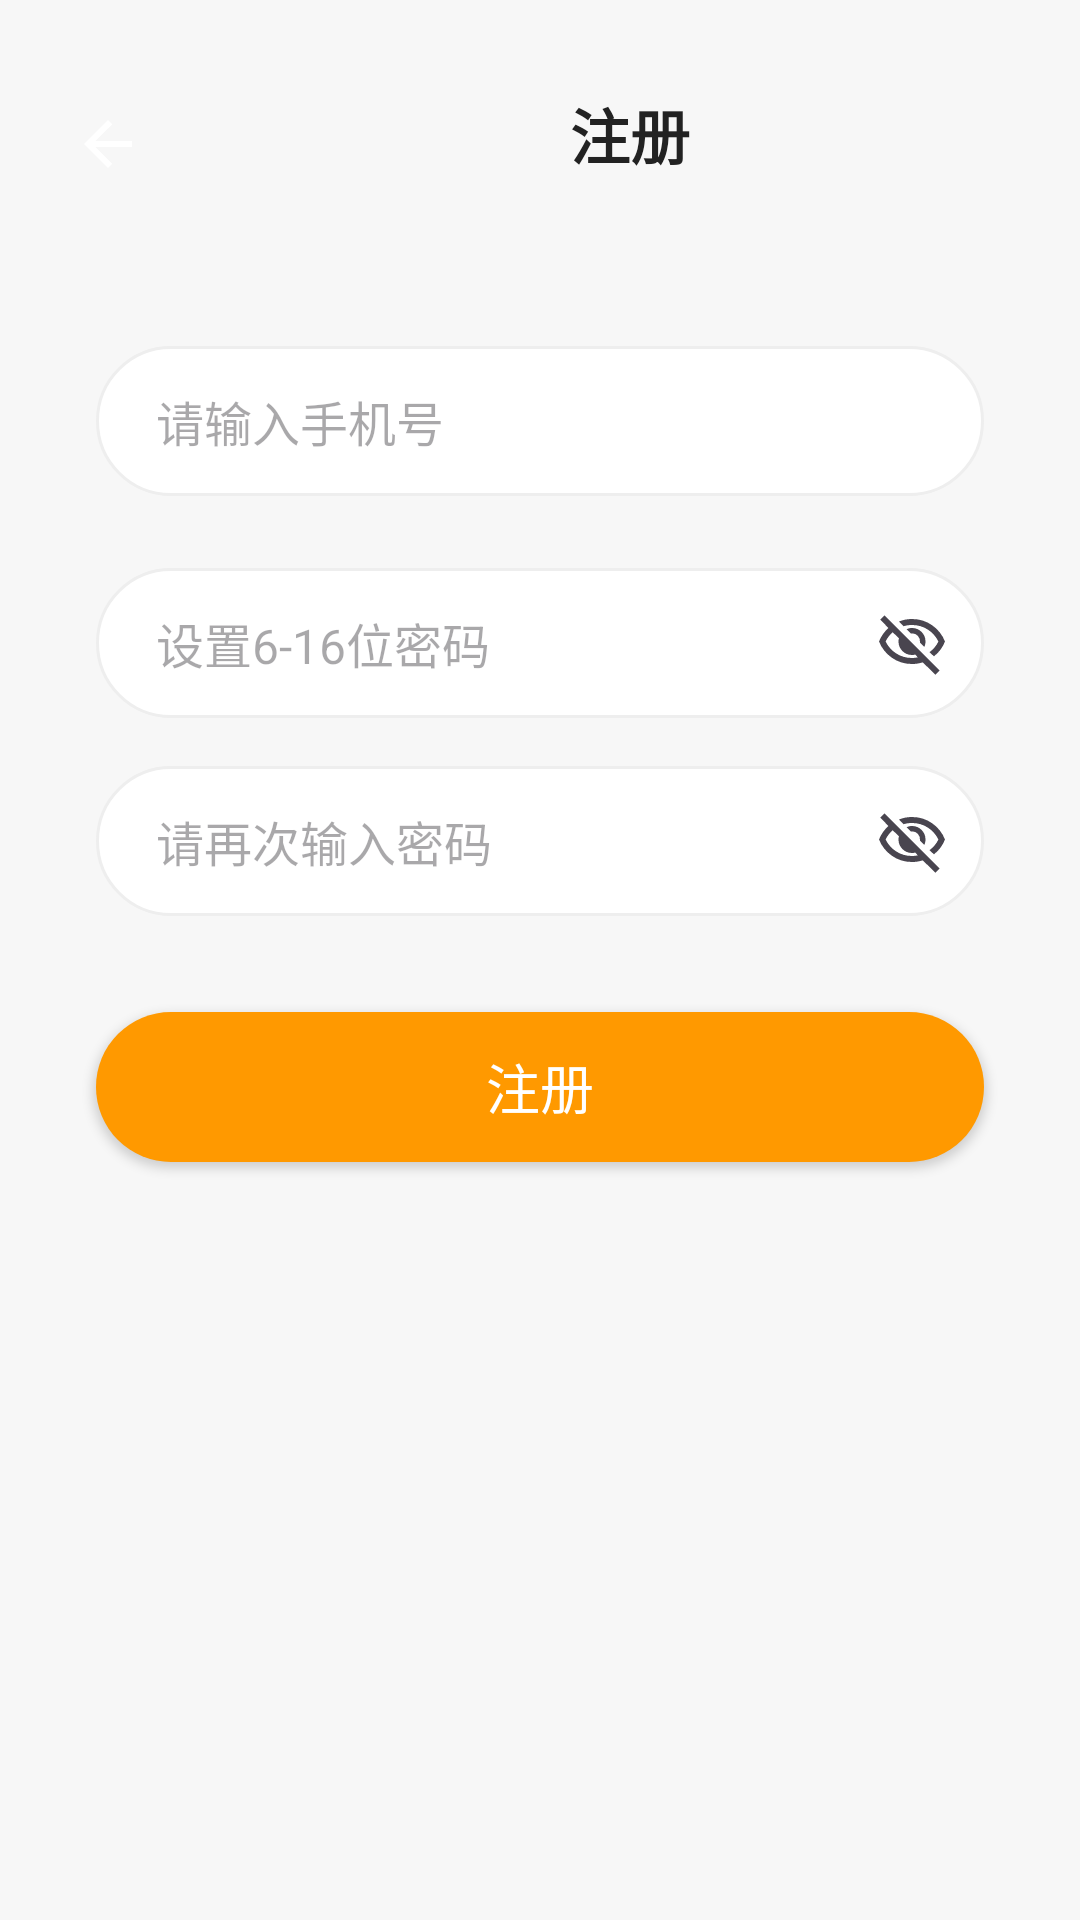

Named icons in this screenshot (1080 x 1920) and their bounding boxes, (x1, y1, x2, y2):
切换密码可见性: (879, 615, 945, 675), (879, 813, 945, 873)
